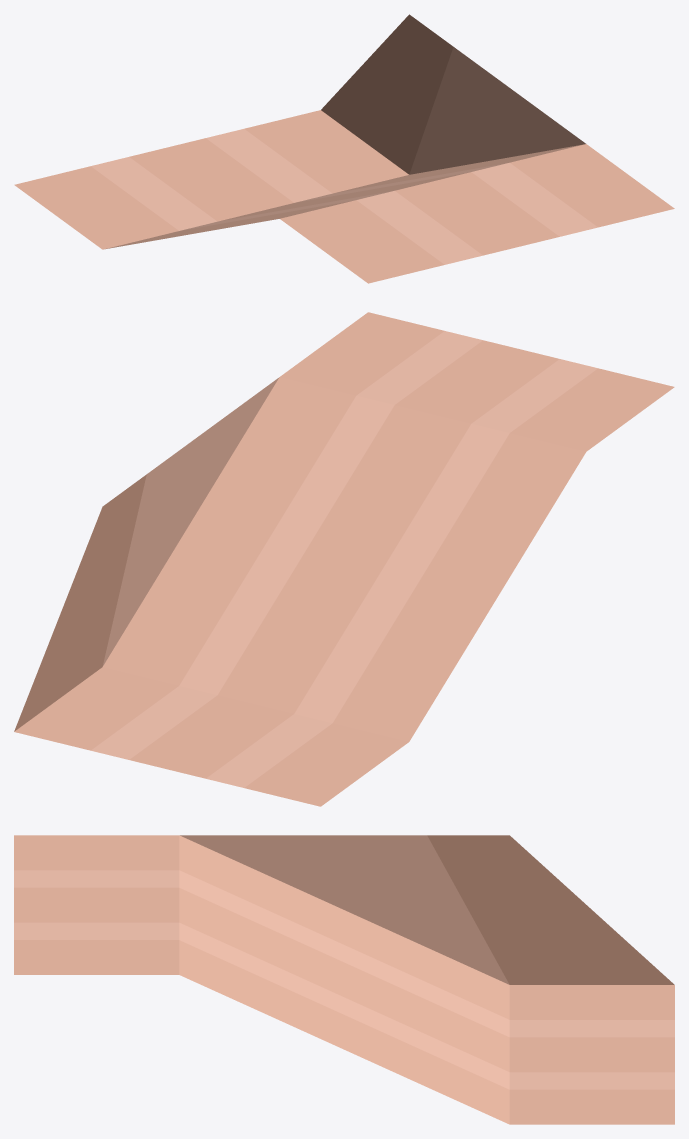
File: terrain_roadRampLarge_detailed.glb
3 views of the same model, one above another, from view 1: azimuth 30°, elevation 25°; view 2: azimuth 150°, elevation 25°; view 3: azimuth 270°, elevation 25° (orthographic). The views are drawn at different scales.
Visible parts, largest first — view 1: terrain_roadRampLarge_detailed; view 2: terrain_roadRampLarge_detailed; view 3: terrain_roadRampLarge_detailed.
Part boxes in pixels (<box>): terrain_roadRampLarge_detailed: <box>14,14,674,283</box>; terrain_roadRampLarge_detailed: <box>14,312,674,806</box>; terrain_roadRampLarge_detailed: <box>14,835,674,1124</box>.
Size of the model in its own units: 1 by 0.5 by 2.
